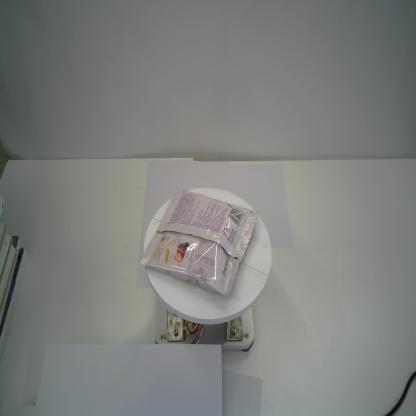Instant Drink: (138, 186, 260, 299)
